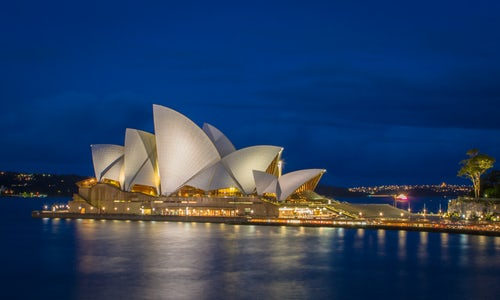opera house: (56, 101, 361, 236)
